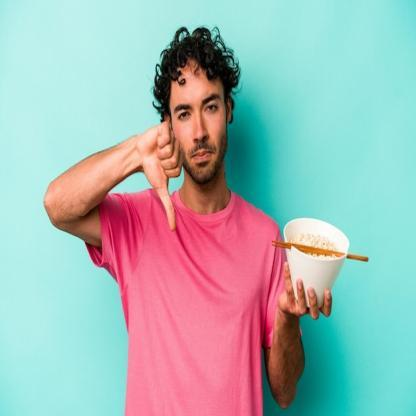thumb_down: (134, 117, 185, 231)
